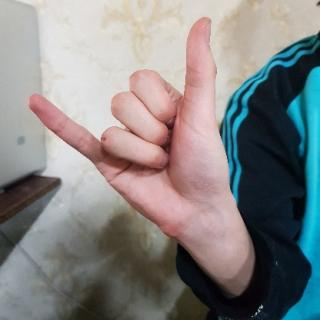YA: (27, 12, 230, 250)
